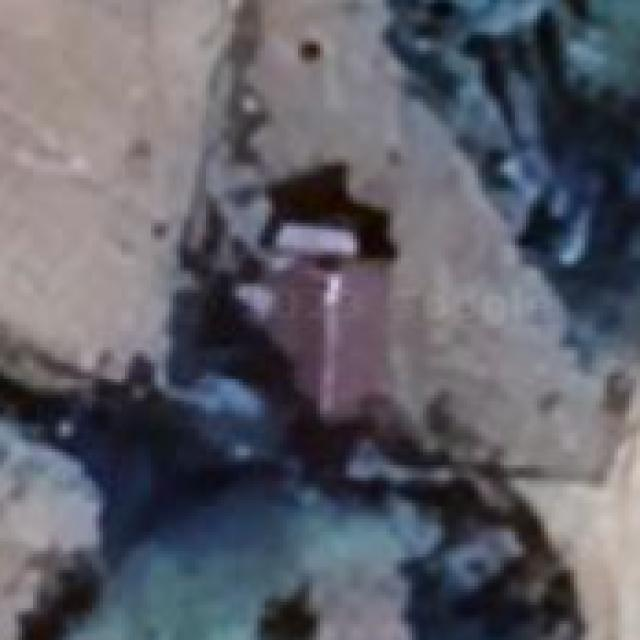Batiment: (235, 219, 386, 418)
